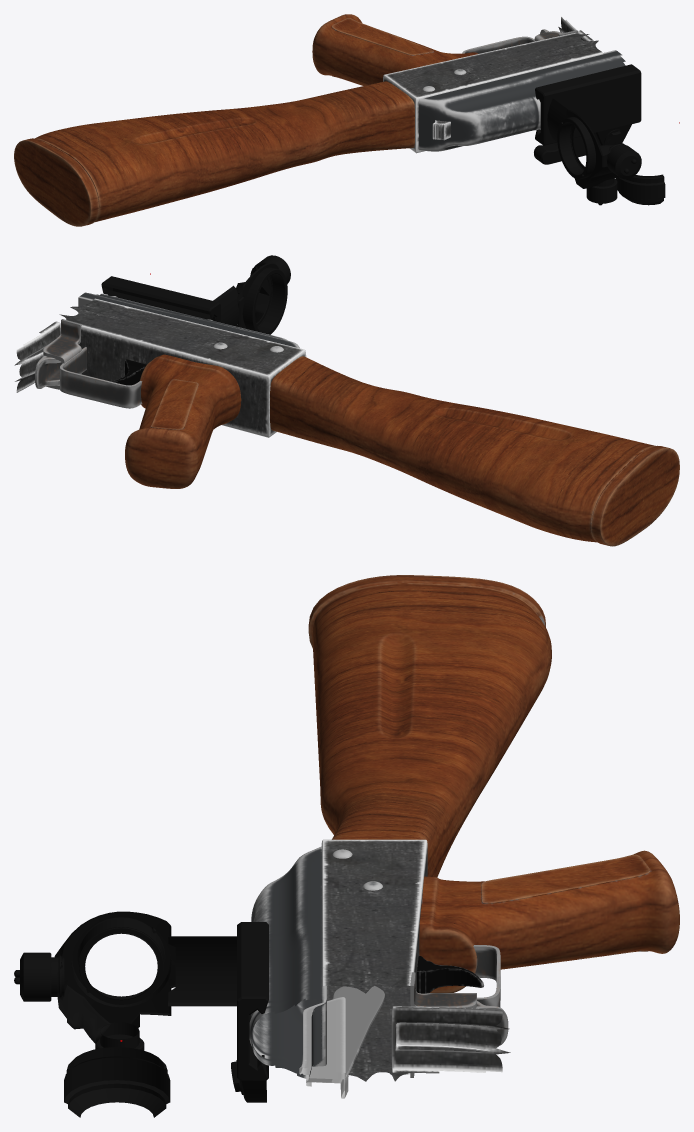
File: sight_red_dot.obj
The picture shows the model from 3 angles, top to bottom: view 1: azimuth 30°, elevation 25°; view 2: azimuth 150°, elevation 25°; view 3: azimuth 270°, elevation 25°; orthographic projection. The views are drawn at different scales.
Visible parts, largest first — view 1: Ak47, Object_4; view 2: Ak47, Object_4; view 3: Ak47, Object_4.
Part boxes in pixels (left/top/right/bottom): Ak47: left=14, top=14, right=625, bottom=226; Object_4: left=534, top=64, right=665, bottom=205; Ak47: left=14, top=292, right=679, bottom=546; Object_4: left=101, top=255, right=290, bottom=334; Ak47: left=249, top=575, right=679, bottom=1098; Object_4: left=14, top=911, right=268, bottom=1117.
Size of the model in its own units: 29.91 by 5.11 by 20.12.
3 materials, 1 textured.
